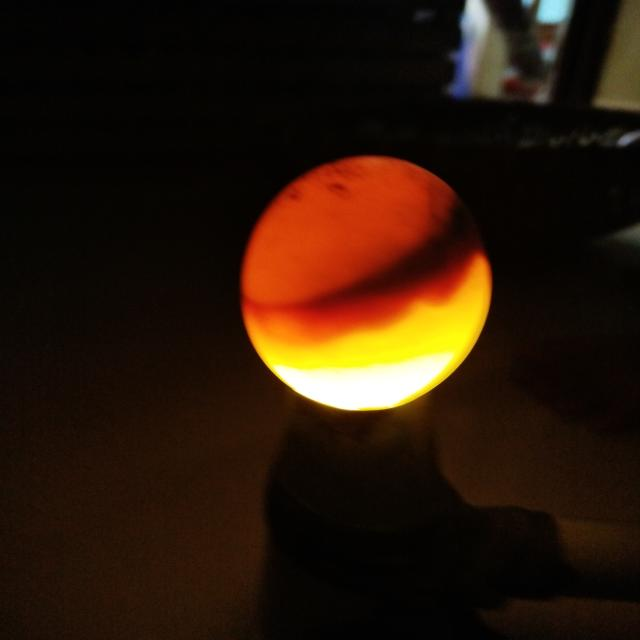Area Infectada: (298, 196, 484, 303)
